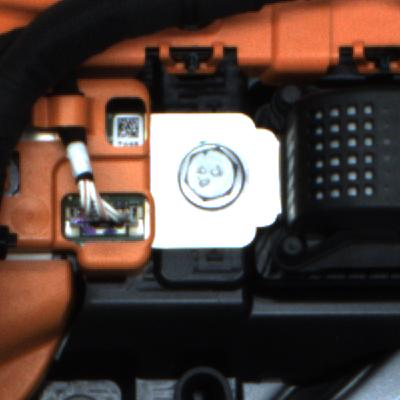nut_b: (175, 139, 244, 218)
